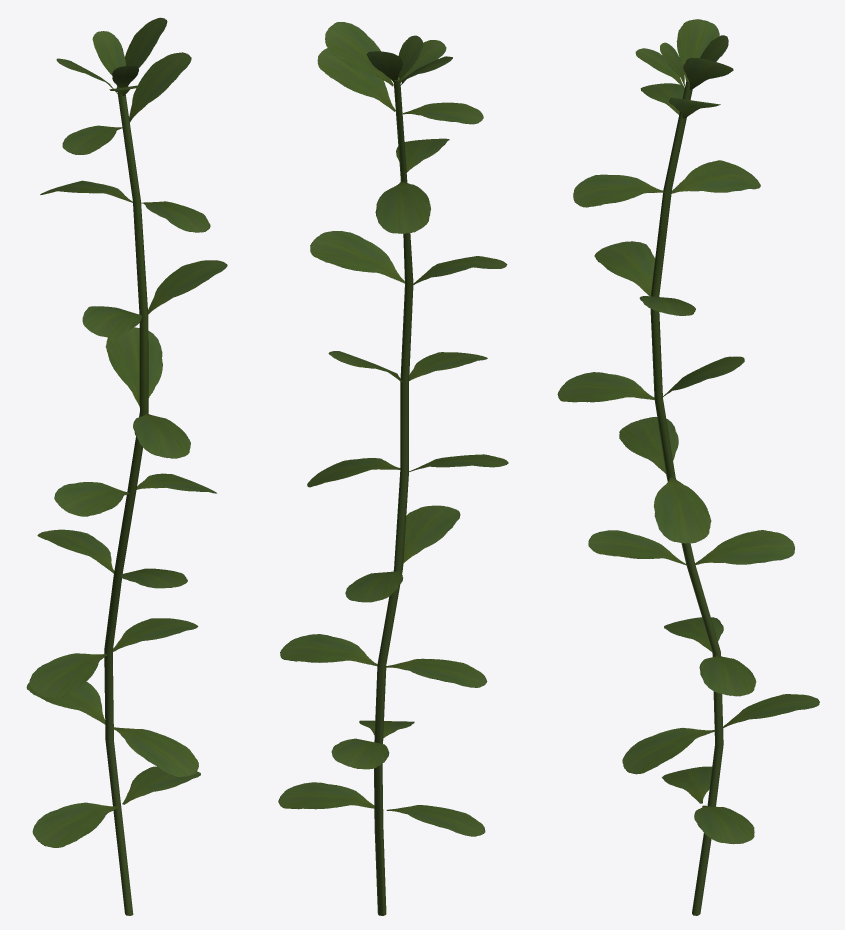
The model's file is AquaPlant_3.fbx.
3 renders of one model, left to right at view 1: azimuth 30°, elevation 25°; view 2: azimuth 150°, elevation 25°; view 3: azimuth 270°, elevation 25°, orthographic.
Parts seen in each view (by area): view 1: AquaPlant_3; view 2: AquaPlant_3; view 3: AquaPlant_3.
Boxes of the visible parts, x1,y1,x2,y2 form: AquaPlant_3: (26,17,227,915); AquaPlant_3: (278,22,508,915); AquaPlant_3: (557,19,819,915).
Size of the model in its own units: 22.19 by 93.31 by 27.16.
